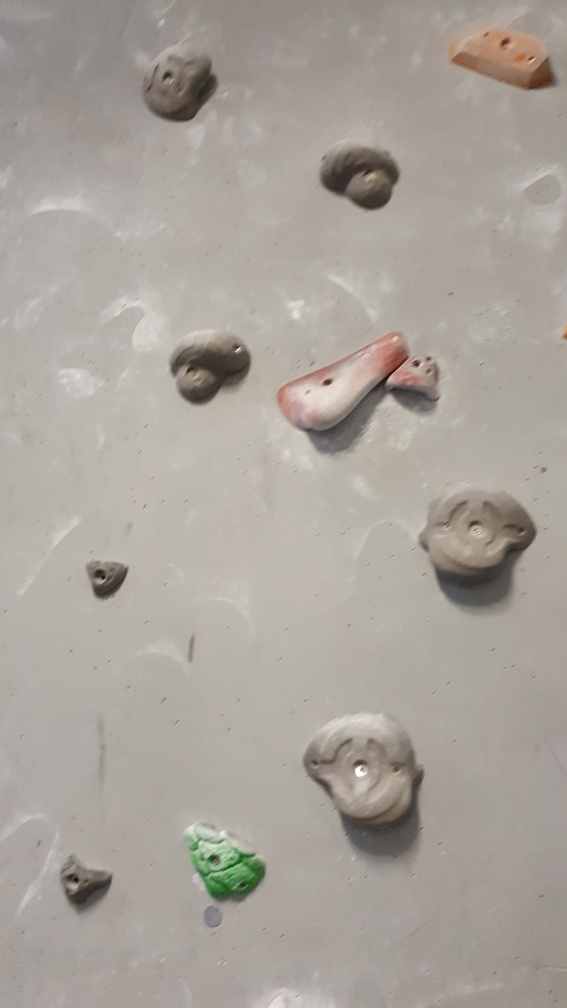Hand Start: (202, 903, 225, 931)
Jug: (303, 709, 425, 834), (419, 481, 539, 589), (138, 43, 217, 125), (171, 327, 252, 405), (321, 138, 401, 211), (386, 350, 441, 403)
Pinch: (451, 24, 556, 93)
